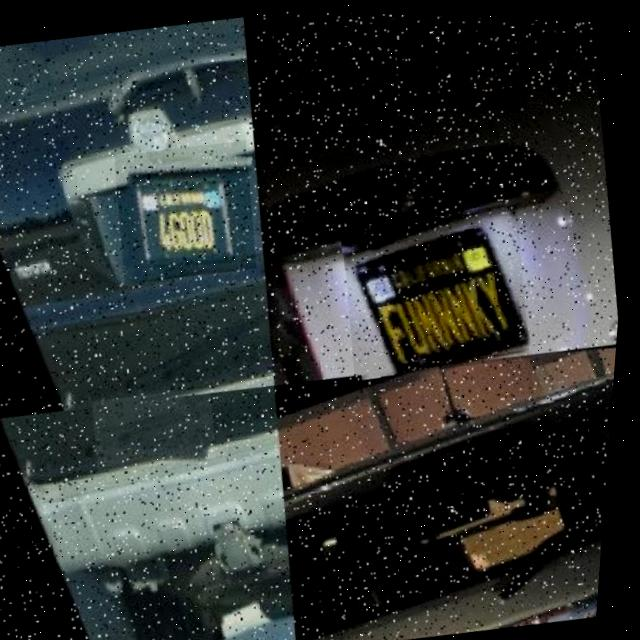LicensePlate: (336, 195, 544, 381), (109, 135, 268, 287), (94, 382, 227, 475)
